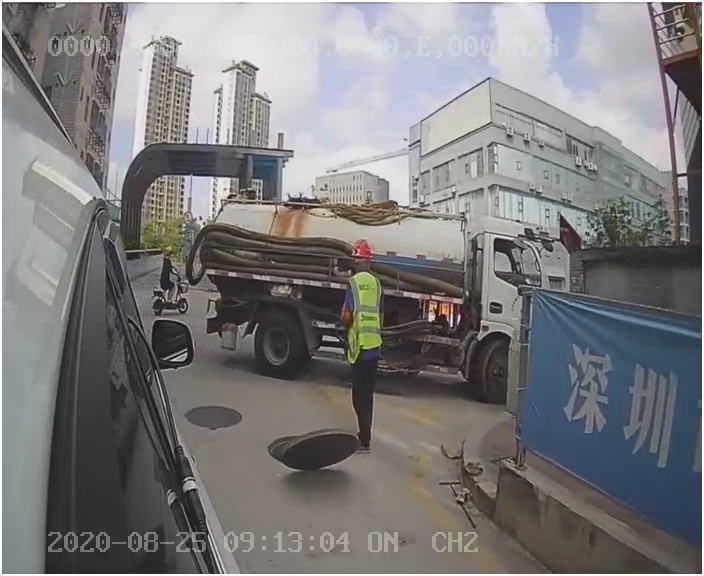person: (337, 237, 390, 455)
